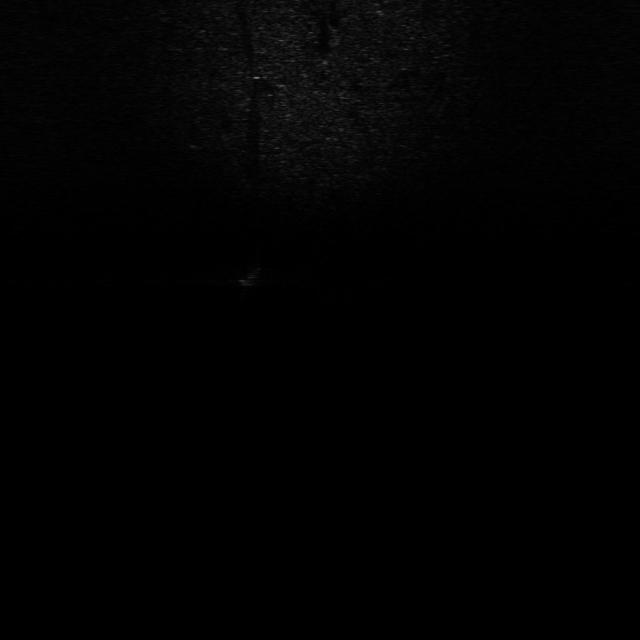human body: (239, 250, 267, 304)
